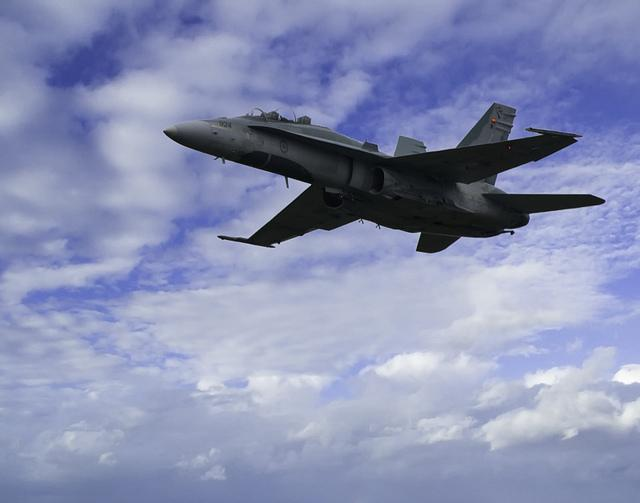airplane: (160, 103, 607, 256)
